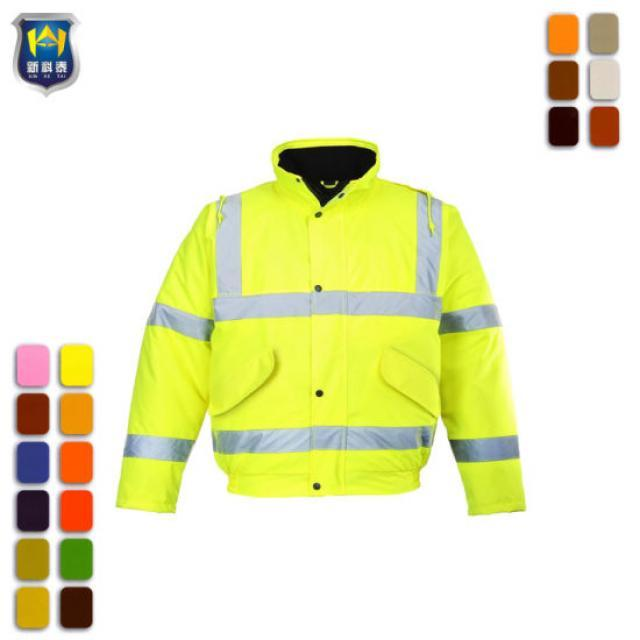construction-vest: (212, 160, 440, 496)
